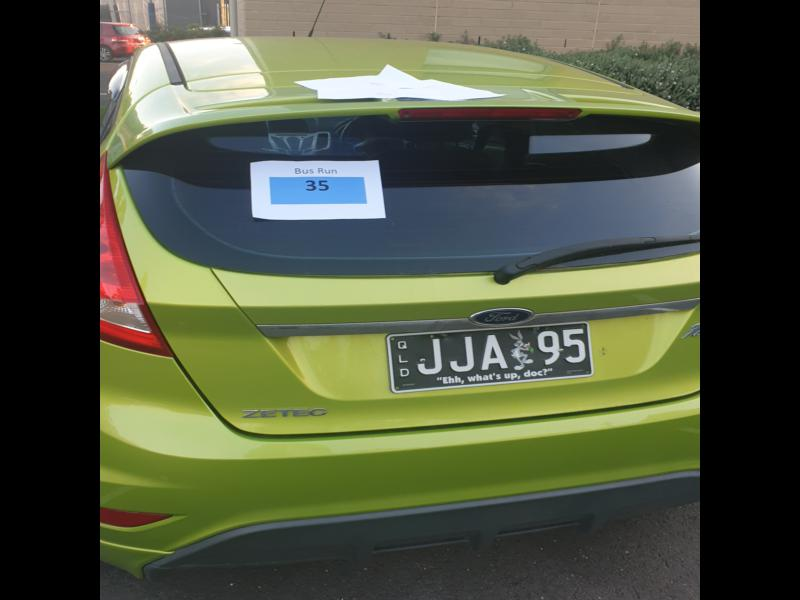BusRun: (270, 175, 367, 205)
PlateNo: (391, 319, 592, 397)
